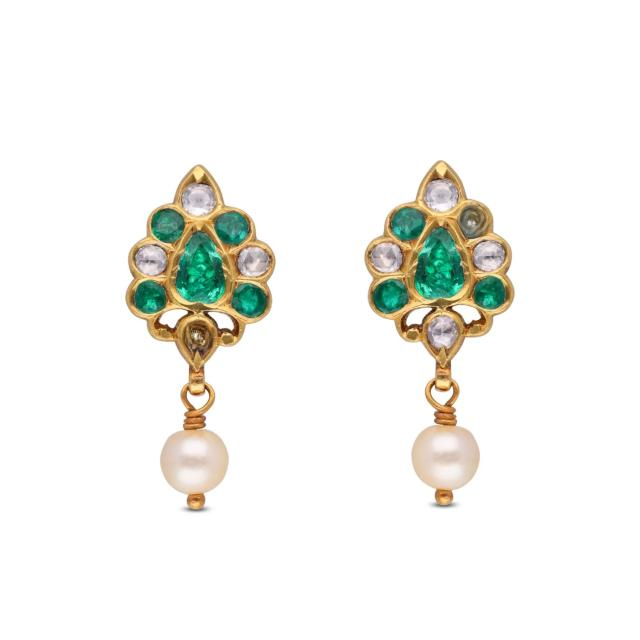missing gem: (457, 205, 488, 237), (185, 320, 212, 351)
